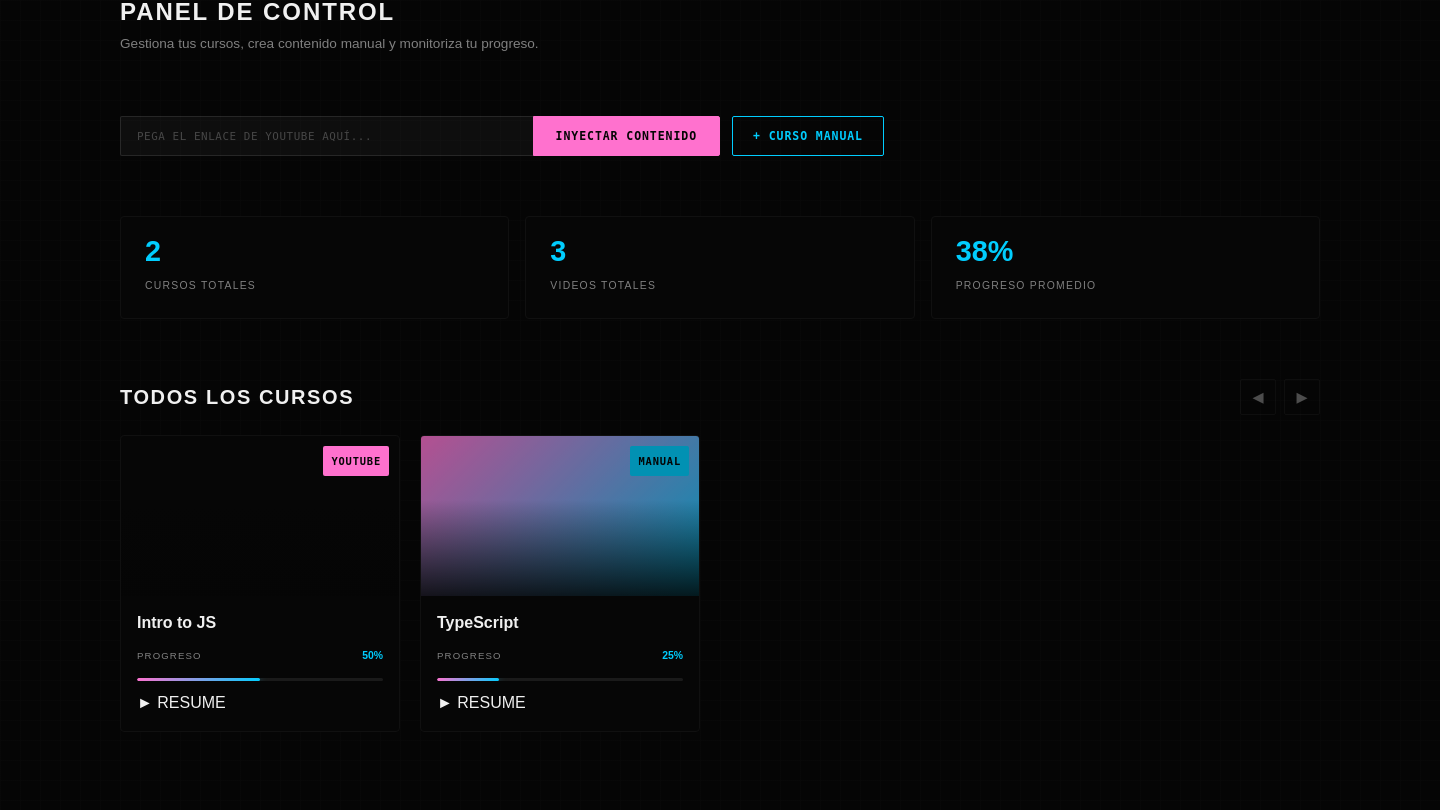
Test case: DashboardPage › clicking manual button opens modal
This screenshot has width=1440, height=810.
Click the button "+ CURSO MANUAL" at (808, 136), box left=732, top=116, right=884, bottom=156
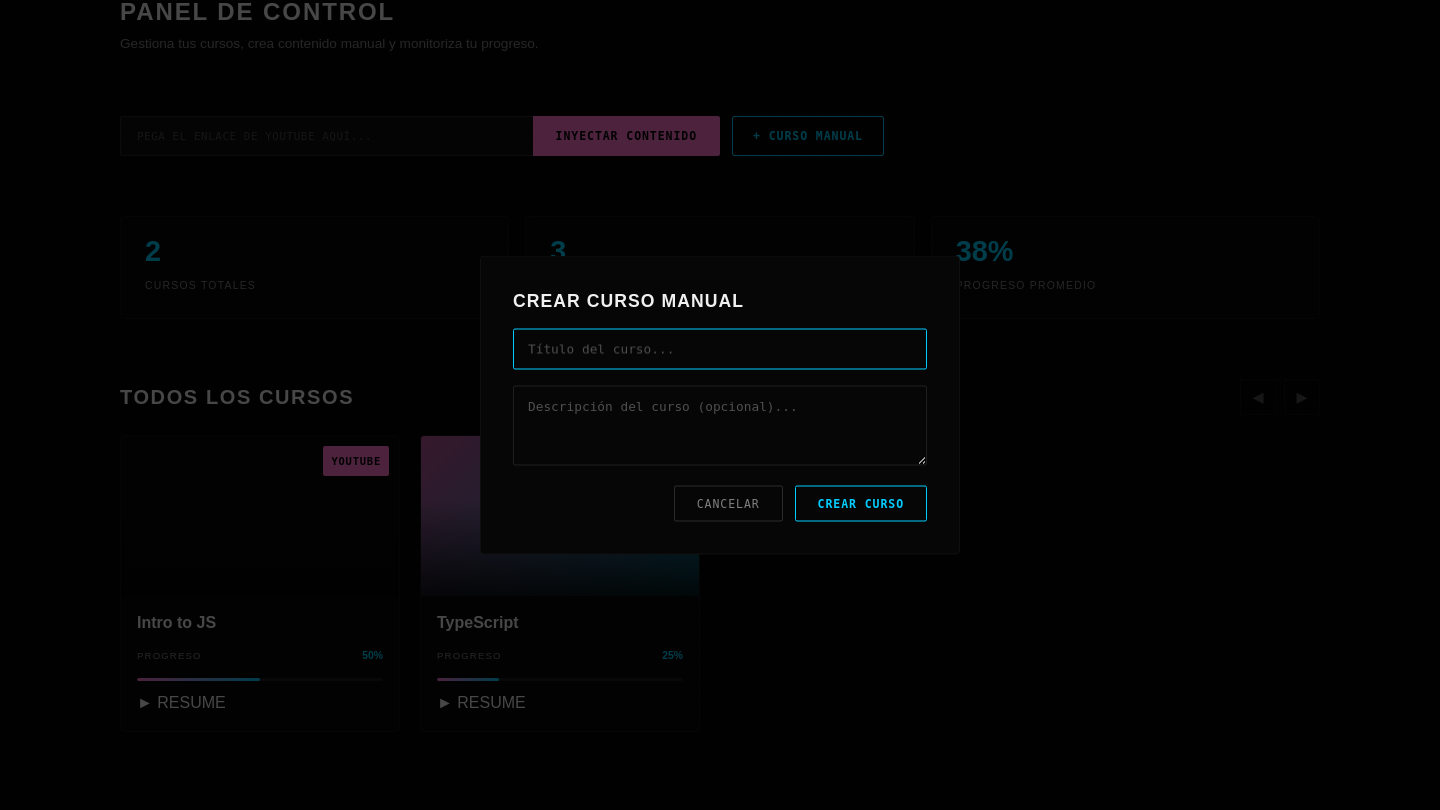
Check: the heading "CREAR CURSO MANUAL" is shown, box left=513, top=290, right=744, bottom=310
